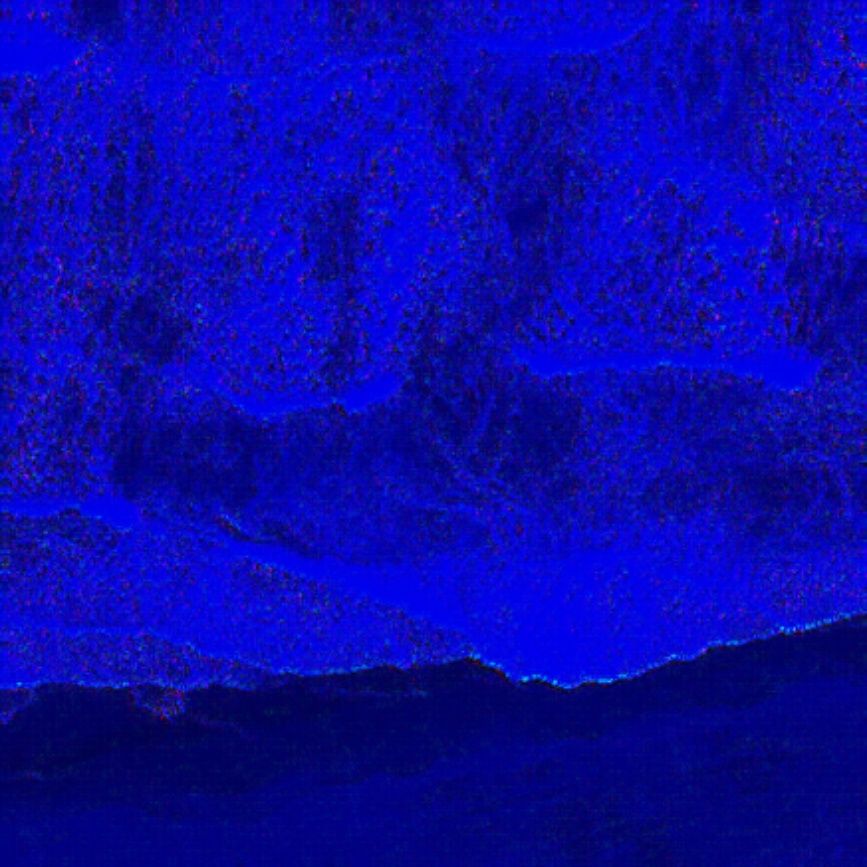rip_current: (353, 68, 626, 549)
